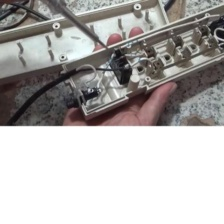three_eye_plug: (56, 0, 224, 122), (0, 0, 178, 92)
